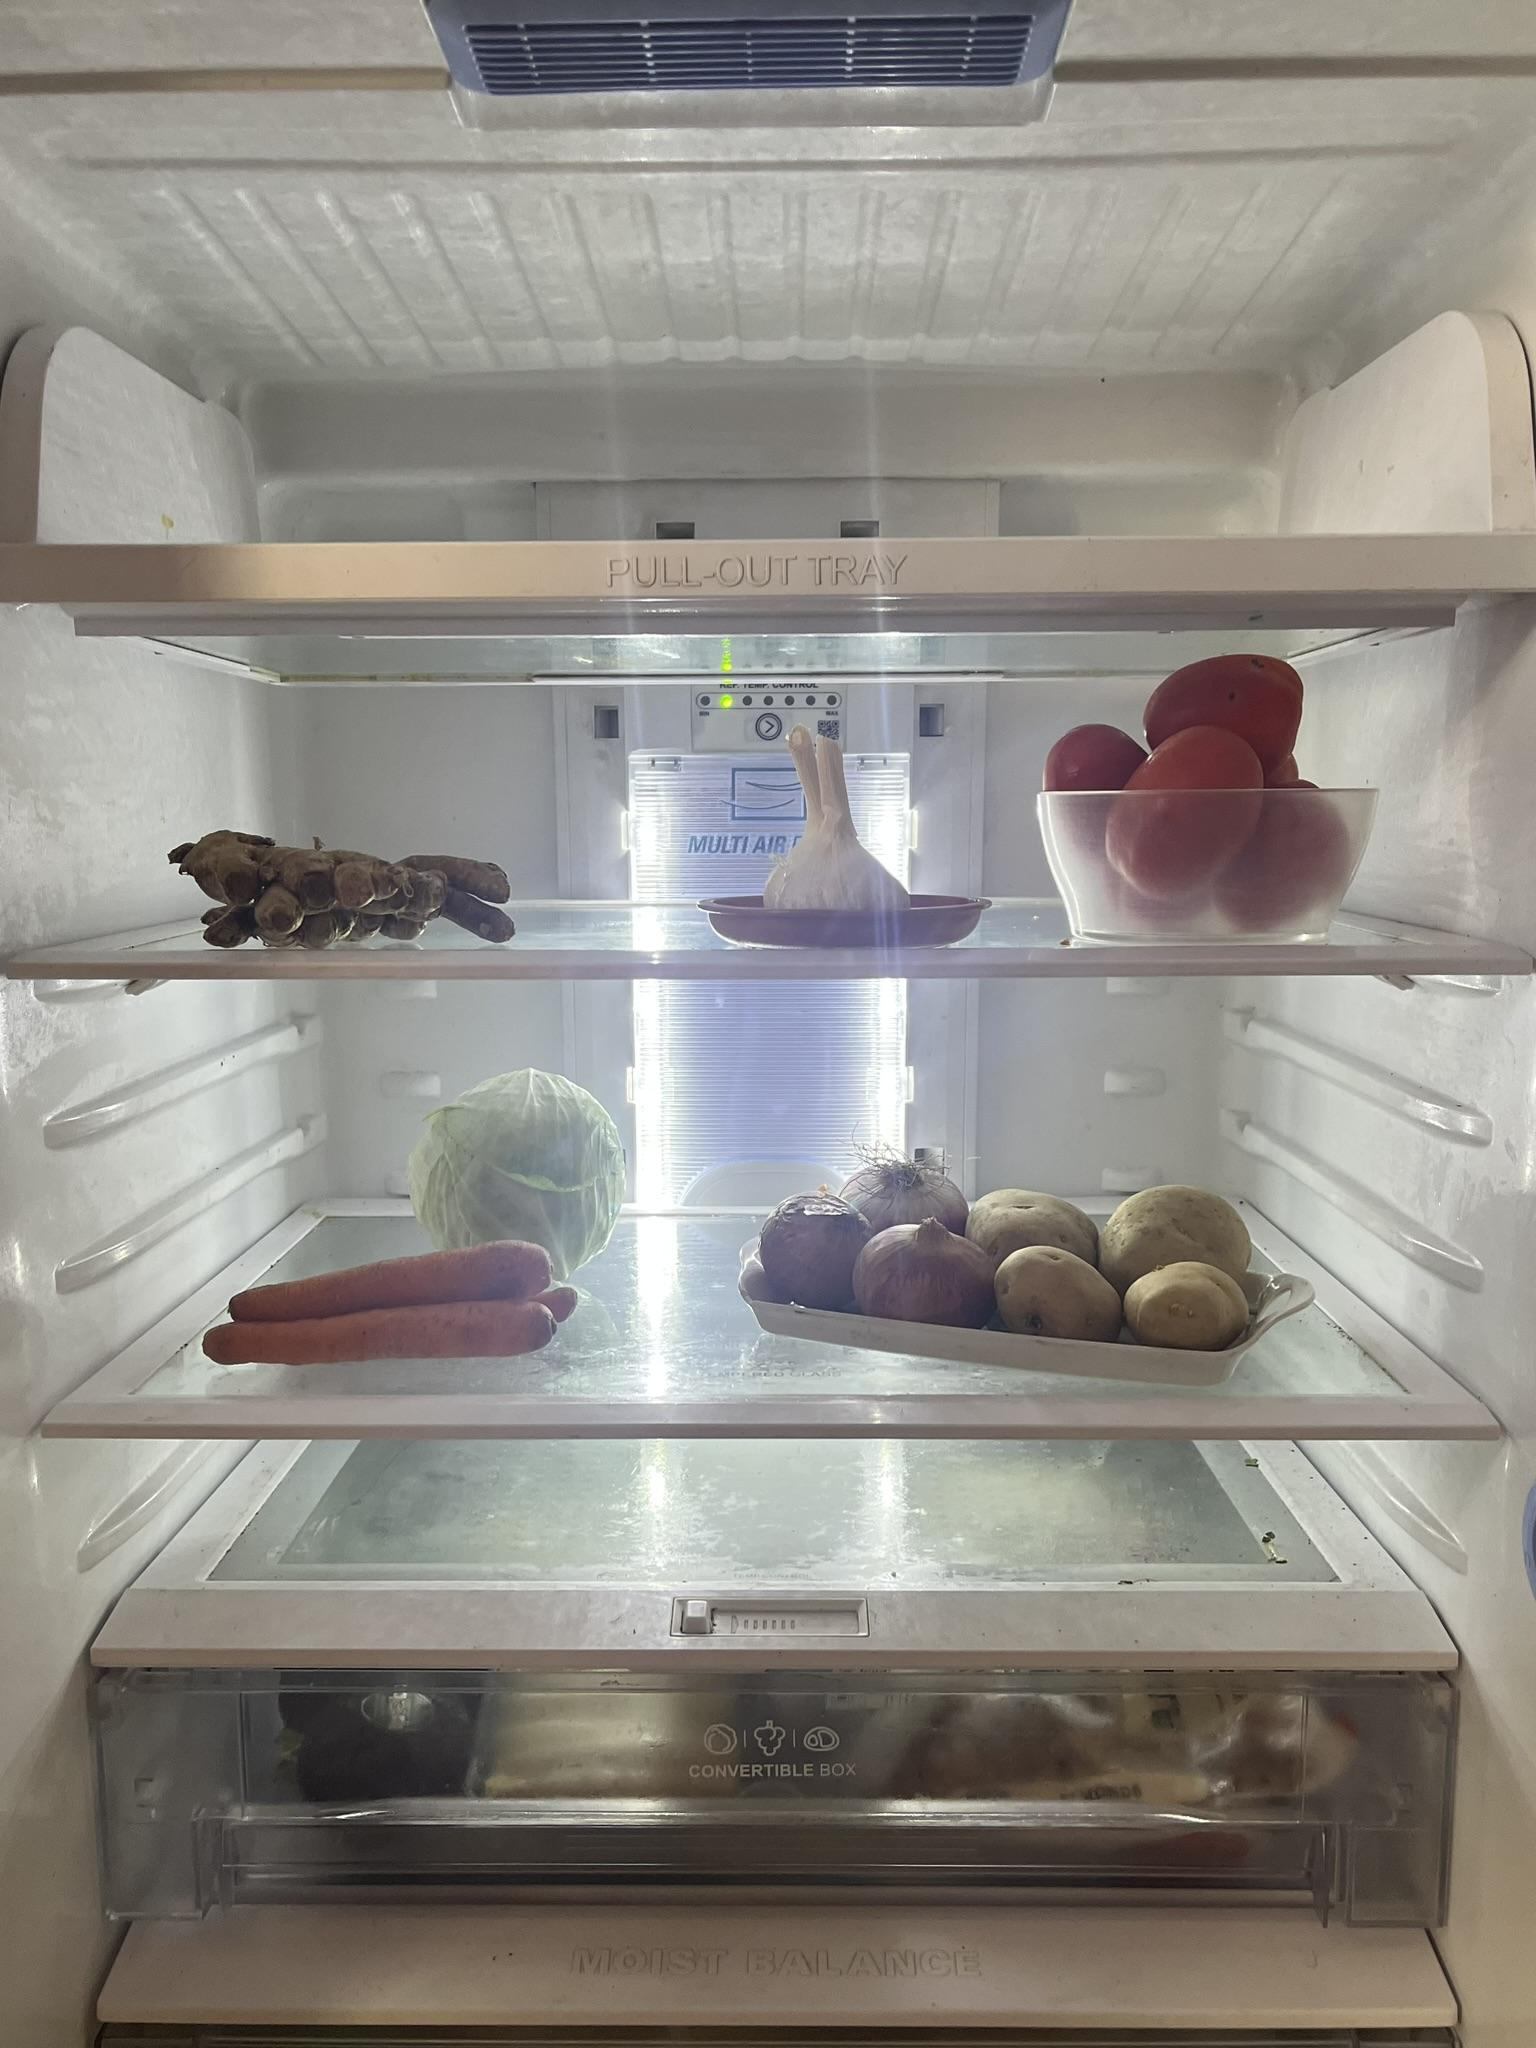cabbage: (418, 1071, 624, 1271)
carrots: (208, 1242, 587, 1364)
garlic: (765, 726, 915, 914)
ginger: (168, 827, 518, 948)
onion: (760, 1153, 991, 1321)
potato: (968, 1182, 1268, 1355)
tomato: (1047, 648, 1355, 927)
